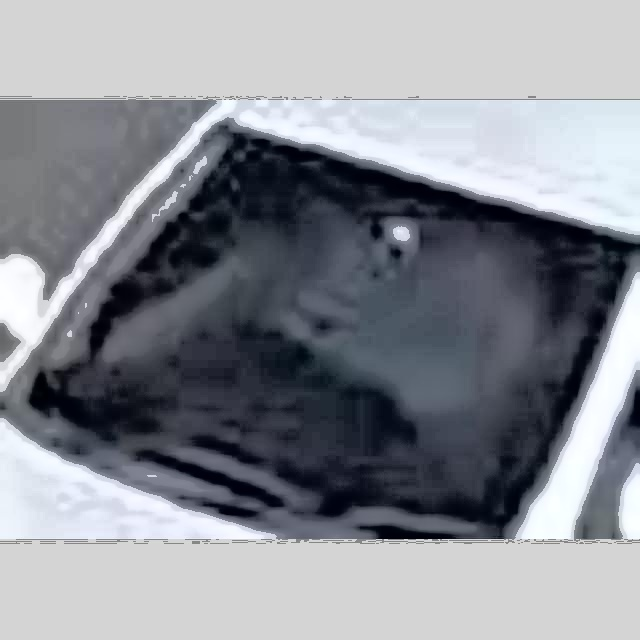tidak-pakai: (268, 182, 536, 442)
